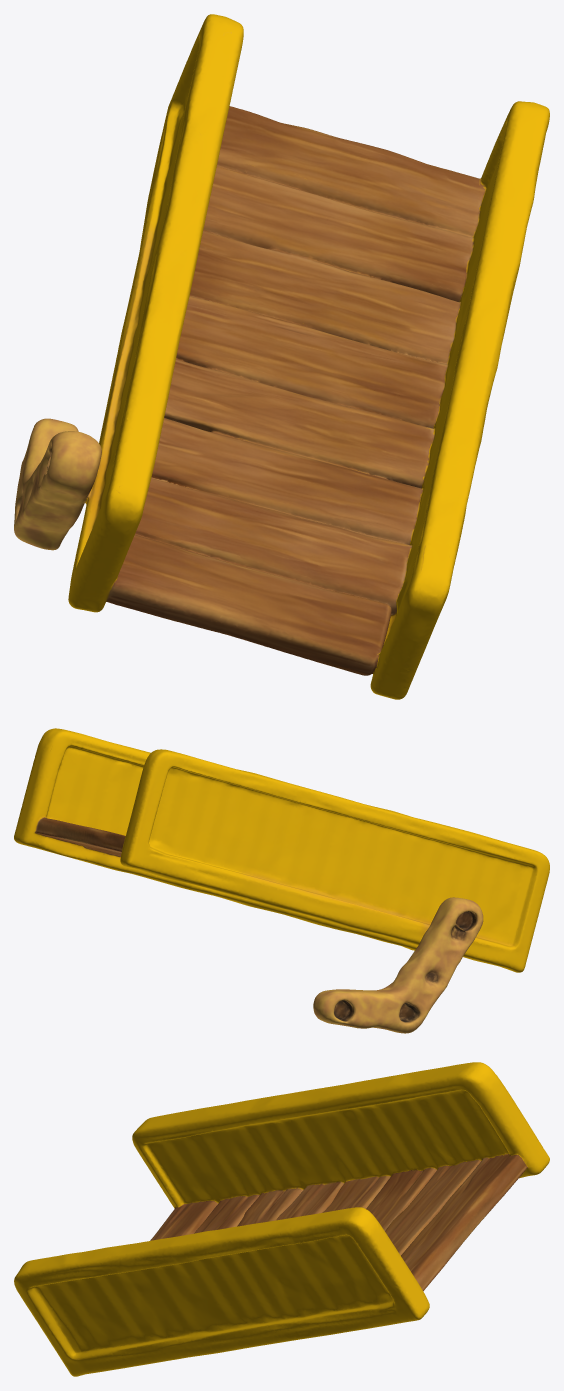
The model's file is bridge.glb.
3 renders of one model, top to bottom at view 1: azimuth 30°, elevation 25°; view 2: azimuth 150°, elevation 25°; view 3: azimuth 270°, elevation 25°, orthographic. The views are drawn at different scales.
Size of the model in its own units: 0.8628 by 0.6483 by 0.9146.
1 material, 1 textured.
